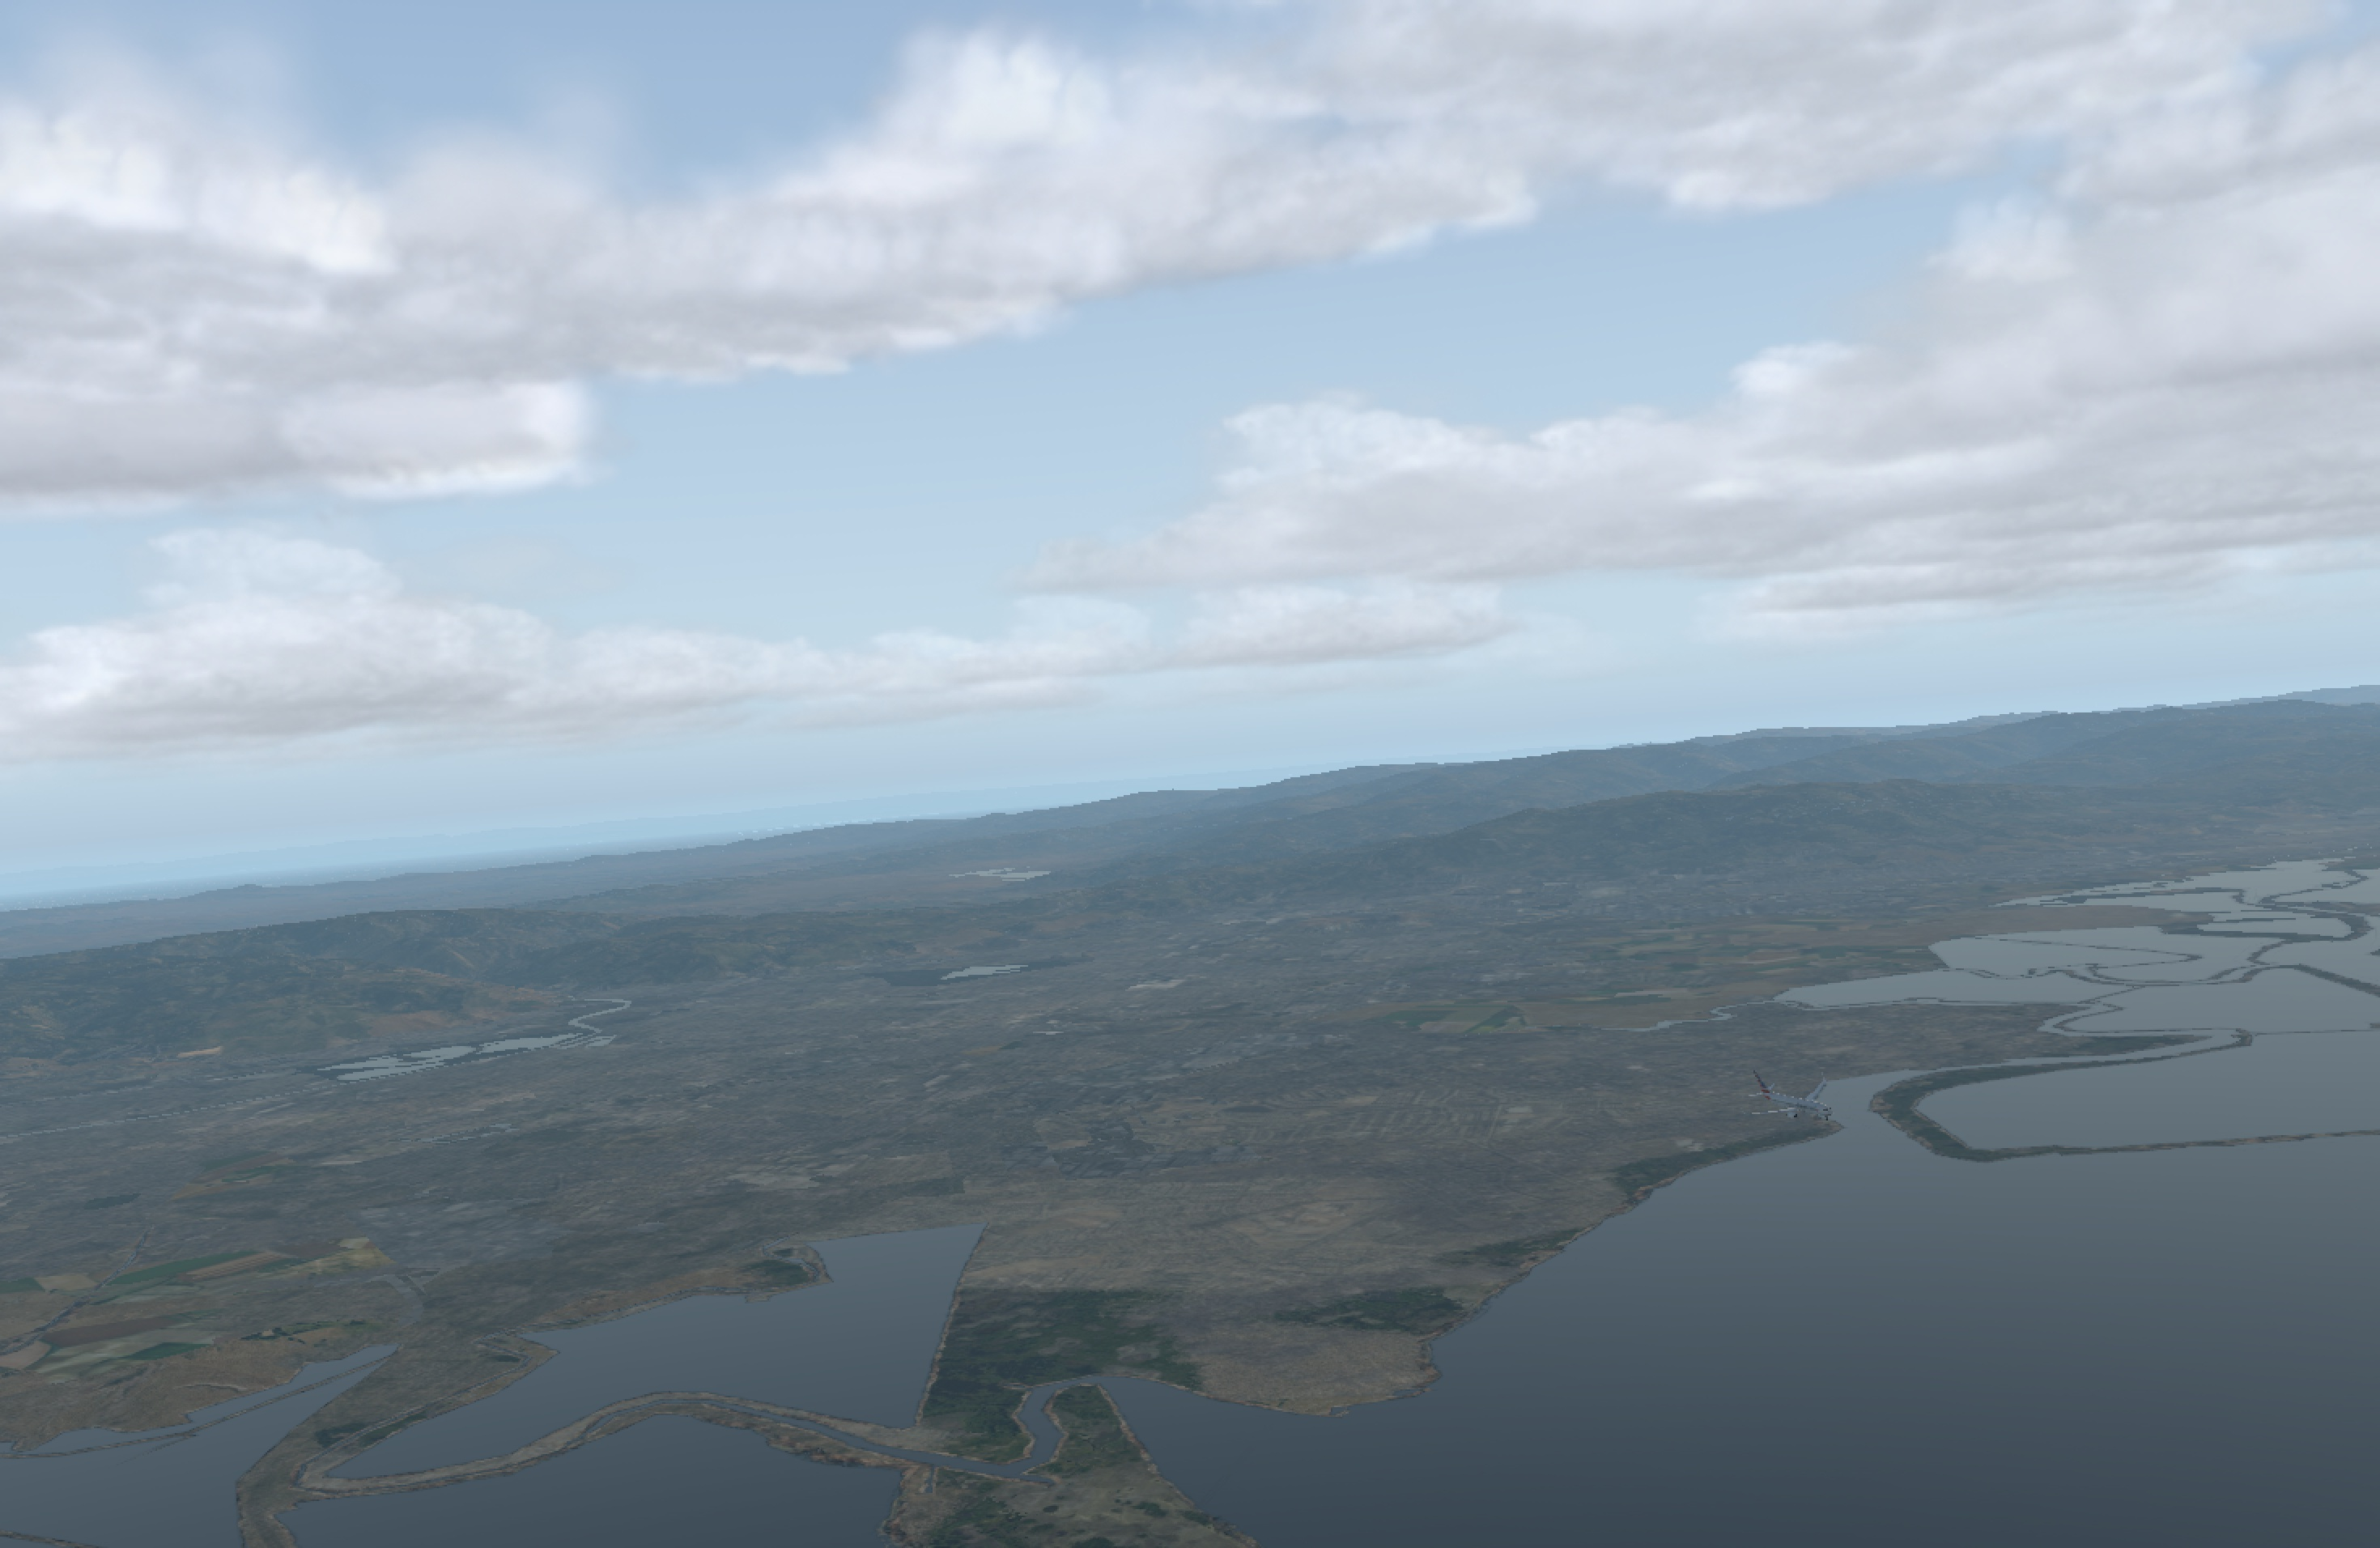aircraft: (1743, 1085, 1854, 1126)
